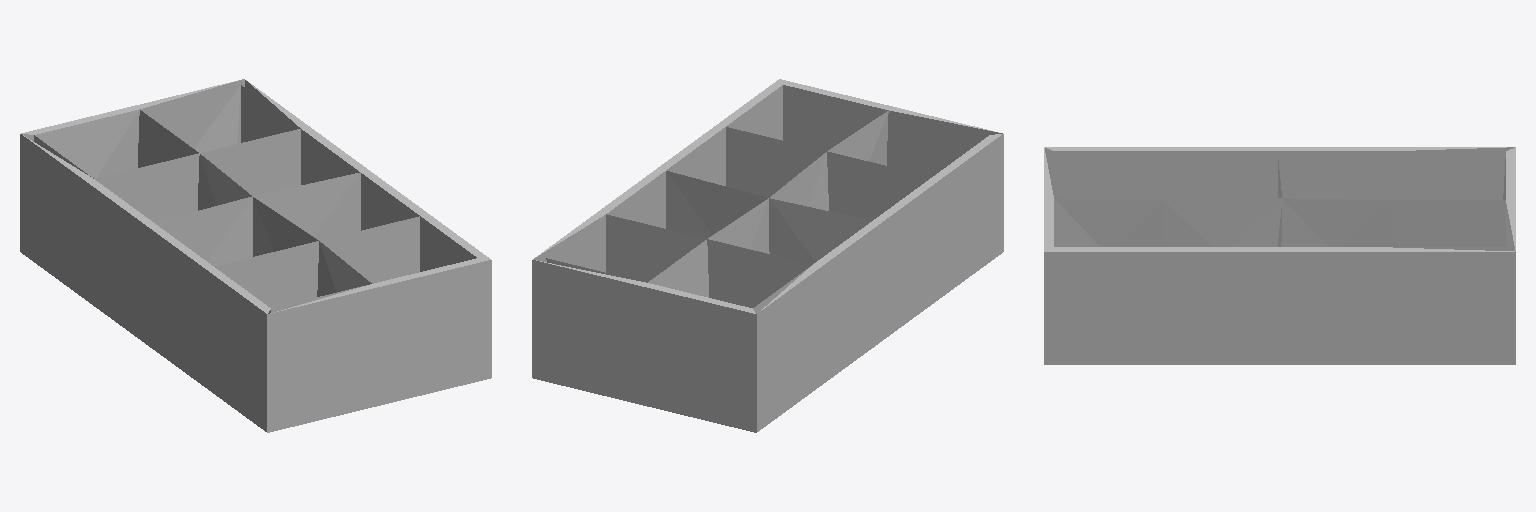
robot.urdf — bookcase:
<?xml version="1.0"?>
<robot name="bookcase">
    <link name="bookcase">
        <visual>
            <geometry>
                <mesh filename="bookshelf.obj"/>
            </geometry>
            <material name="red">
              <color rgba="0.8 0.8 0.8 1" />
            </material>
        </visual>
        <collision>
            <geometry>
                <mesh filename="new_bookshelf.obj"/>
            </geometry>
        </collision>
    </link>
</robot>

--- Render facts (derived) ---
3 views of the same robot in one strip: view 1: azimuth 30°, elevation 25°; view 2: azimuth 150°, elevation 25°; view 3: azimuth 270°, elevation 25° (orthographic).
Robot: bookcase — 1 links, 0 joints (none); root link bookcase; default pose: all joints at 0.
Links seen in each view (by area): view 1: bookcase; view 2: bookcase; view 3: bookcase.
Boxes of the visible links, x1,y1,x2,y2 form: bookcase: (20, 79, 491, 432); bookcase: (532, 79, 1003, 432); bookcase: (1044, 147, 1515, 364).
Bounding box of the posed robot: 0.1146 × 0.2188 × 0.058 m (x, y, z).
Meshes: 1 distinct files referenced, 1 mesh visuals loaded (1 OBJ).